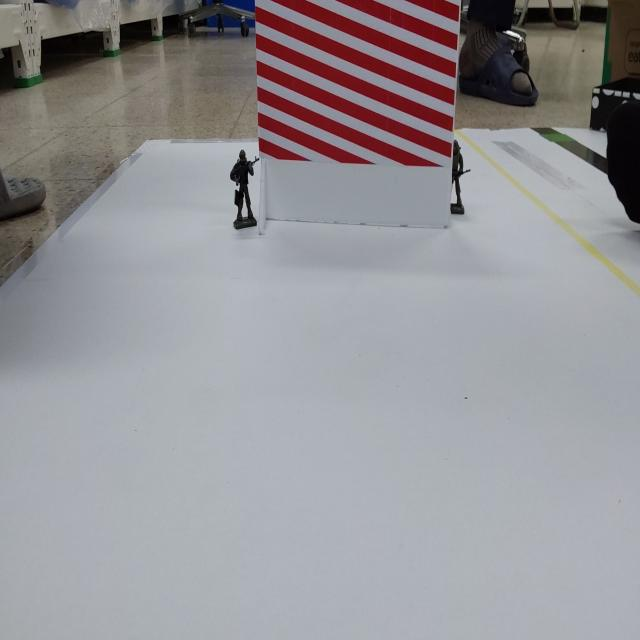enem: (231, 150, 259, 229), (442, 138, 470, 216)
